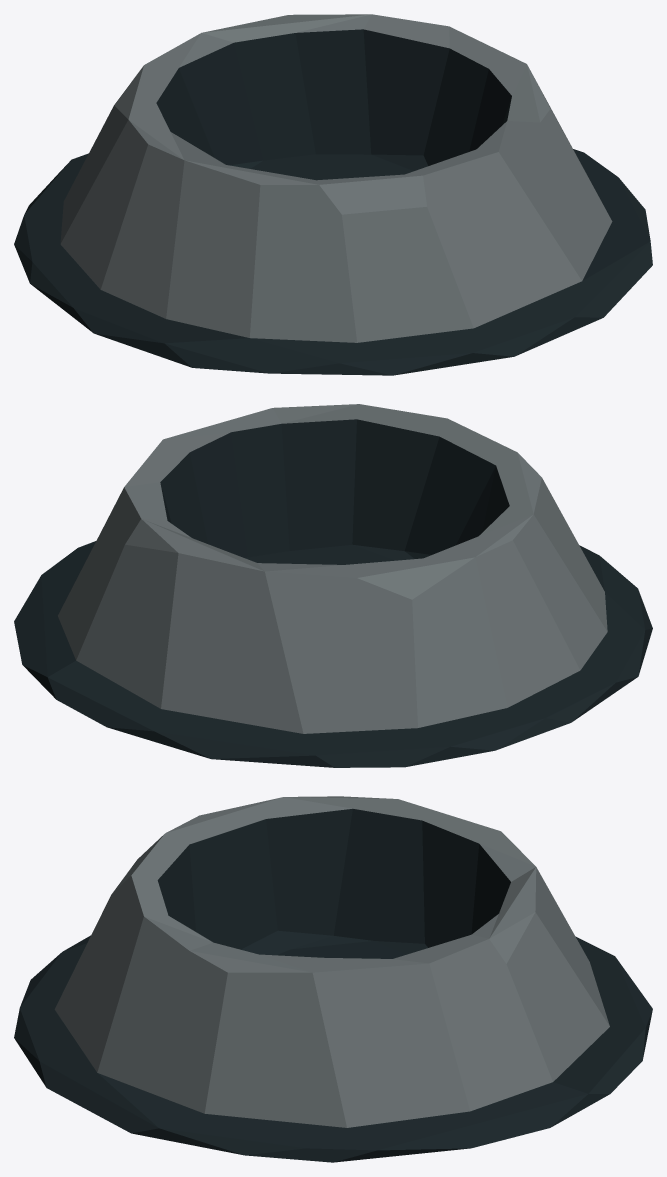
Rendered from DogBowl.fbx.
3 renders of one model, top to bottom at view 1: azimuth 30°, elevation 25°; view 2: azimuth 150°, elevation 25°; view 3: azimuth 270°, elevation 25°, orthographic.
Parts seen in each view (by area): view 1: DogBowlLowPoly; view 2: DogBowlLowPoly; view 3: DogBowlLowPoly.
Part boxes in pixels (box(x1,y1,x2,y2)): DogBowlLowPoly: box(14, 14, 652, 375); DogBowlLowPoly: box(14, 404, 652, 767); DogBowlLowPoly: box(14, 796, 652, 1162).
Bounding box in the file's own units: 24.09 × 6.21 × 24.25.
